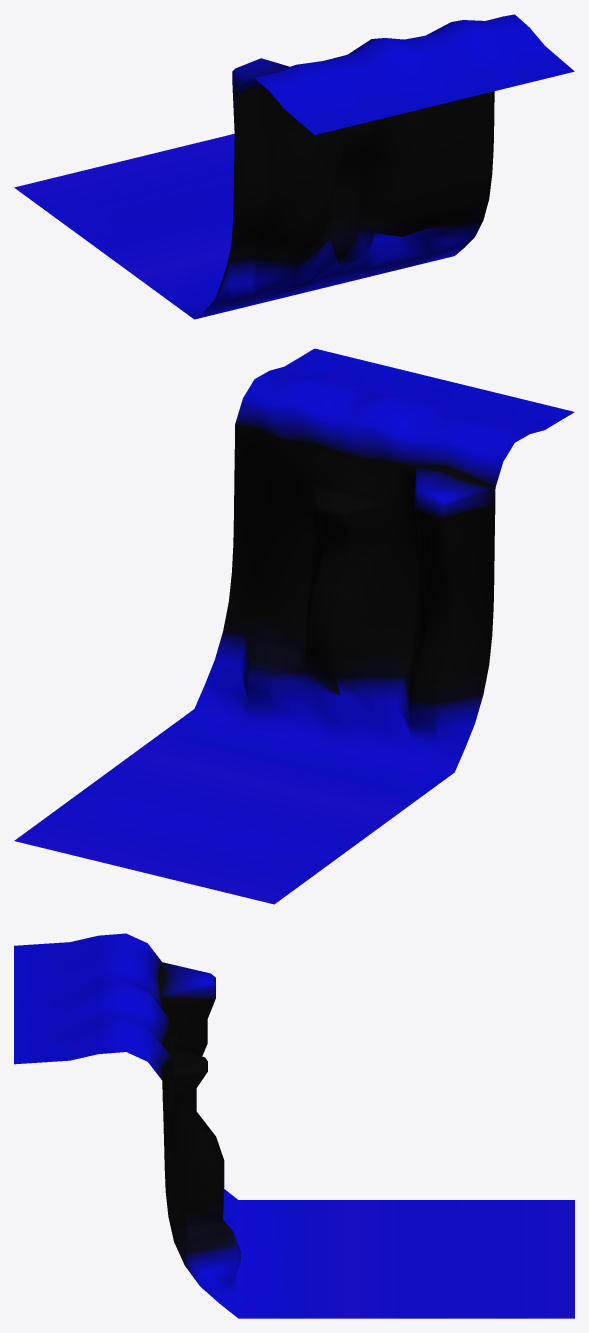
Rendered from WaterFallCliff01D 2M.fbx.
3 views of the same model, one above another, from view 1: azimuth 30°, elevation 25°; view 2: azimuth 150°, elevation 25°; view 3: azimuth 270°, elevation 25° (orthographic). The views are drawn at different scales.
Parts seen in each view (by area): view 1: WaterFallCliff01D 2M; view 2: WaterFallCliff01D 2M; view 3: WaterFallCliff01D 2M.
Boxes of the visible parts, box(x1,y1,x2,y2) form: WaterFallCliff01D 2M: box(14, 14, 574, 319); WaterFallCliff01D 2M: box(14, 348, 574, 904); WaterFallCliff01D 2M: box(14, 933, 574, 1318).
Size of the model in its own units: 1 by 1.08 by 2.
